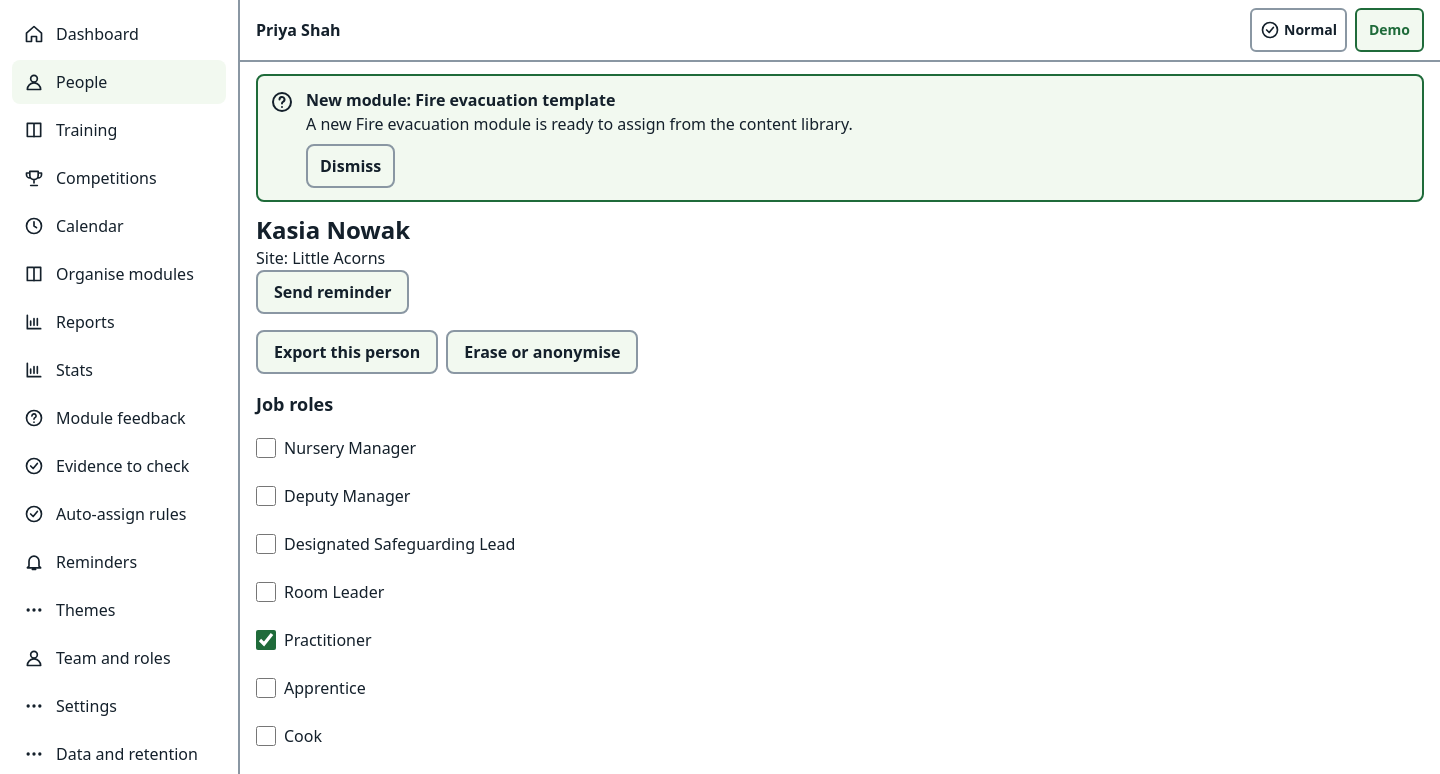
C3 Export this person › downloads a ZIP for that person only, after the code, with no notes
The image size is (1440, 774).
Check: the heading "Kasia Nowak" is shown, box [256,214,410,246]
Step 1. Click the button "Export this person" → (347, 352), box [256,330,438,374]
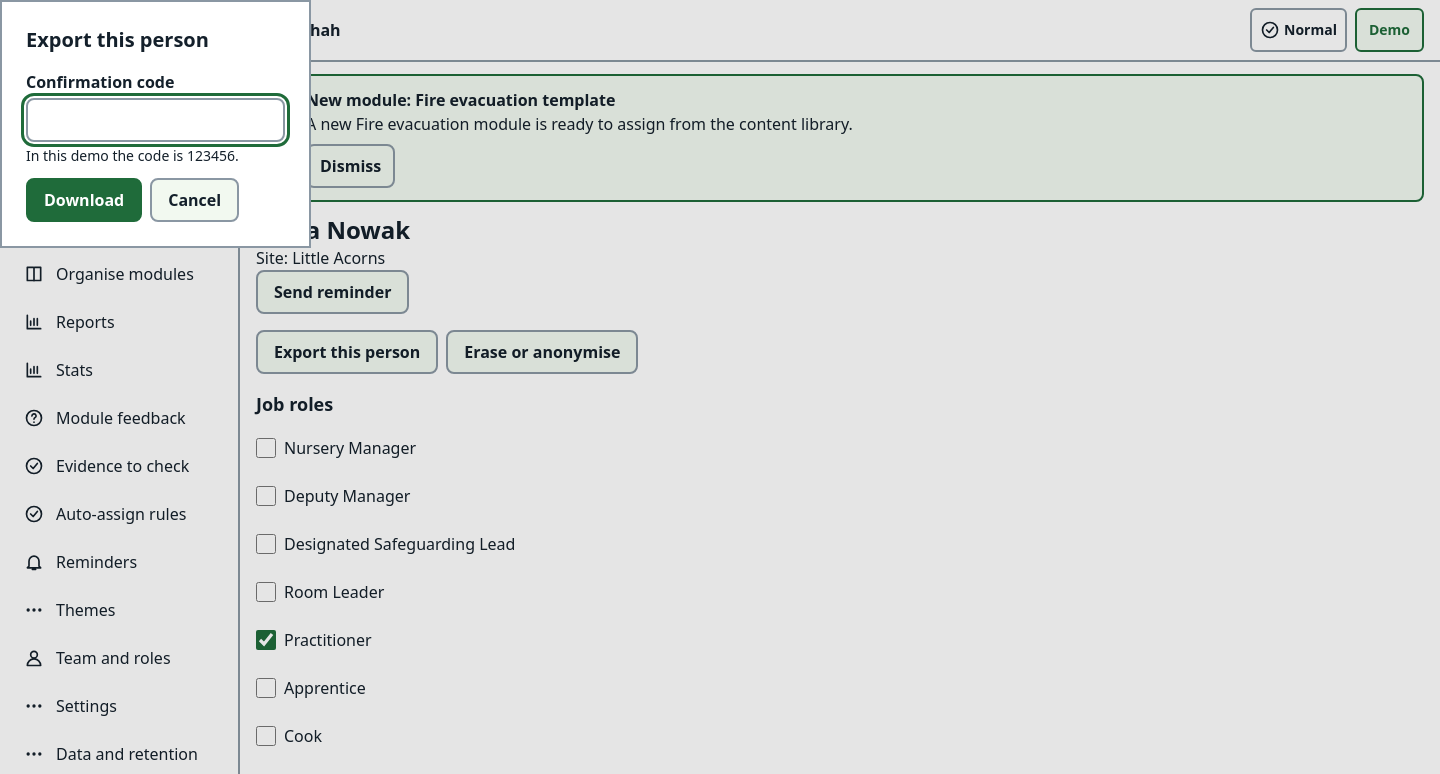
Step 2. Type "123456" into the field labelled "Confirmation code" → (156, 120), box [26,98,285,142]
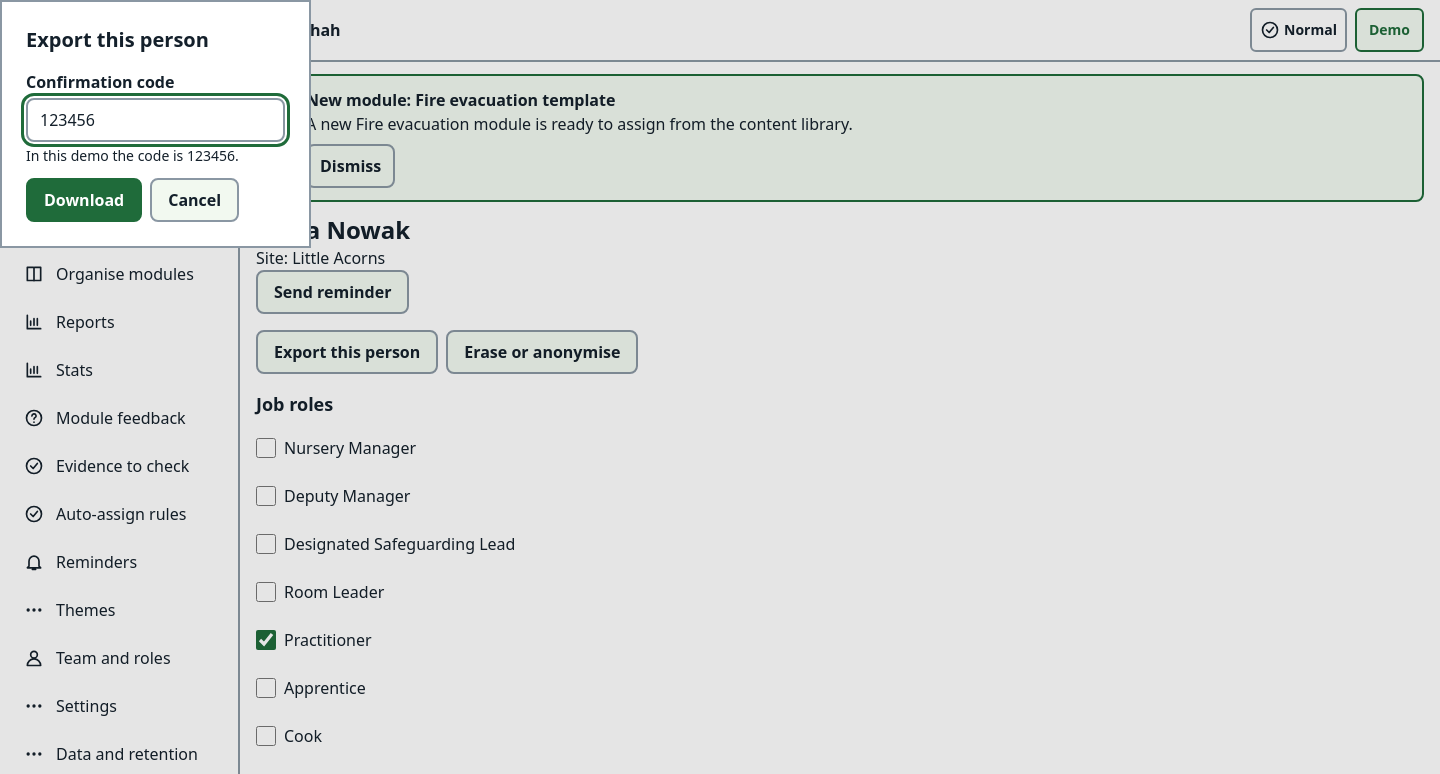
Step 3. Click the button "Download" → (84, 200), box [26,178,142,222]
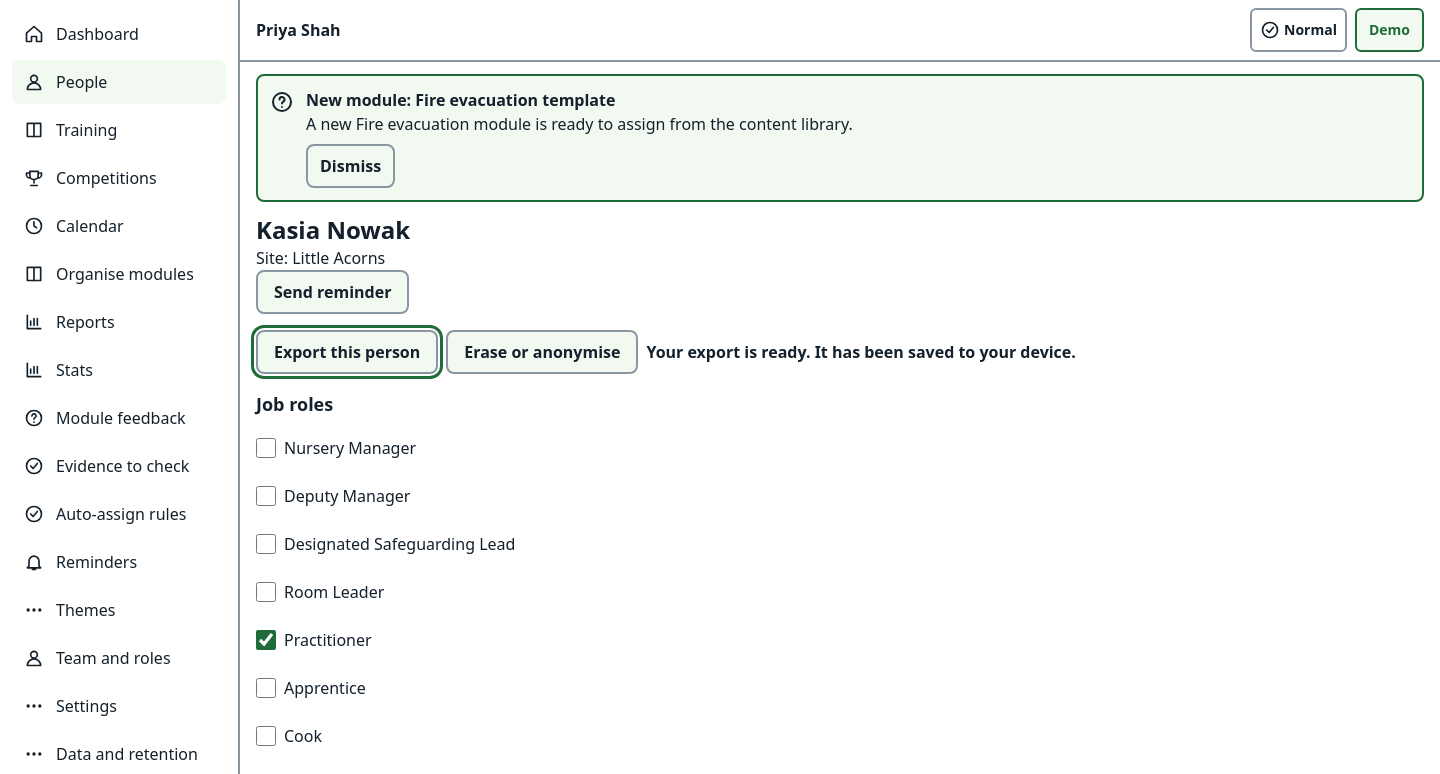
Check: the message shows "Your export is ready.", box [646,341,1076,363]
